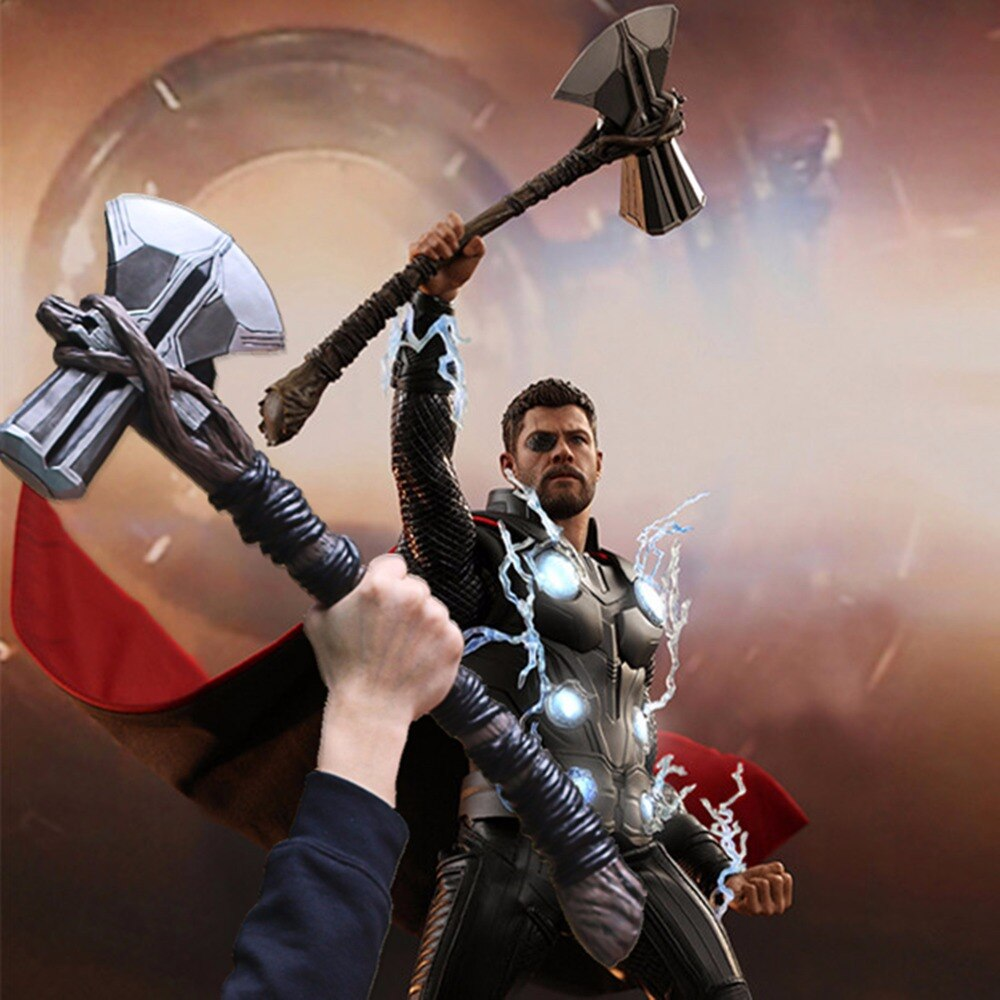THOR Hammer: (12, 203, 662, 949), (288, 13, 708, 448)
